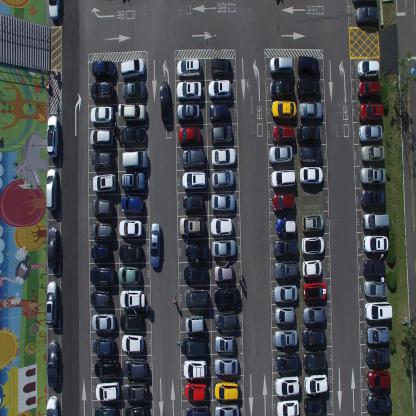car: (120, 57, 146, 82), (45, 281, 59, 327), (364, 300, 393, 322), (46, 114, 60, 158), (270, 167, 296, 190), (272, 258, 299, 280), (47, 339, 59, 388), (45, 166, 58, 211), (275, 375, 300, 398), (92, 172, 117, 195), (94, 380, 120, 402), (121, 126, 147, 148), (122, 380, 148, 402), (181, 147, 205, 170), (150, 222, 162, 268), (209, 123, 233, 146), (301, 327, 326, 349), (182, 170, 207, 192), (366, 370, 391, 392), (122, 82, 147, 104), (272, 238, 298, 259), (210, 147, 236, 168), (122, 150, 148, 171), (366, 392, 392, 413), (360, 187, 386, 208), (360, 165, 386, 186), (298, 165, 324, 186), (269, 79, 295, 100), (90, 59, 116, 80), (213, 287, 240, 307), (119, 290, 146, 310), (274, 327, 298, 349), (211, 191, 235, 213), (122, 170, 146, 192), (122, 103, 146, 125), (91, 83, 115, 105), (302, 350, 326, 372), (91, 150, 115, 172), (120, 194, 144, 216), (46, 226, 58, 270), (297, 54, 319, 78), (298, 100, 322, 122), (296, 77, 320, 99), (276, 352, 301, 373), (303, 375, 328, 396), (118, 219, 143, 240), (207, 78, 232, 99), (302, 280, 327, 301), (183, 264, 208, 285), (122, 358, 148, 378), (358, 102, 384, 122), (179, 216, 205, 236), (362, 211, 389, 230), (214, 309, 237, 331), (178, 124, 201, 146), (273, 283, 297, 304), (90, 105, 114, 126), (268, 56, 292, 77), (296, 123, 320, 144), (269, 144, 293, 165), (159, 80, 171, 122), (302, 305, 326, 326), (211, 238, 236, 258), (91, 312, 116, 332), (90, 265, 115, 285), (182, 358, 207, 378), (214, 381, 239, 401), (184, 288, 209, 308), (93, 358, 118, 378), (363, 234, 388, 254), (184, 242, 209, 262), (362, 279, 388, 298), (176, 80, 202, 99), (210, 216, 233, 237), (90, 128, 113, 149), (119, 242, 142, 263), (120, 334, 144, 354), (357, 80, 381, 100), (271, 192, 295, 212), (177, 58, 201, 78), (301, 235, 325, 255), (364, 326, 389, 345), (358, 123, 383, 142), (271, 100, 296, 119), (364, 348, 390, 366), (301, 258, 322, 280), (183, 336, 206, 356), (91, 198, 114, 218), (117, 265, 140, 285), (211, 169, 235, 188), (214, 357, 238, 376), (119, 313, 143, 332), (362, 258, 386, 277), (361, 144, 385, 163), (355, 6, 379, 25), (299, 146, 323, 165), (176, 102, 200, 121), (304, 396, 328, 415), (274, 216, 296, 236), (182, 193, 204, 213), (357, 58, 379, 78), (272, 124, 294, 144), (90, 222, 113, 241), (274, 306, 295, 326), (211, 57, 232, 77), (209, 102, 230, 122), (92, 336, 115, 354), (184, 382, 207, 400), (301, 214, 324, 232), (90, 288, 111, 307), (214, 335, 236, 353), (276, 400, 300, 416), (184, 314, 204, 332), (91, 244, 111, 262), (214, 264, 234, 281), (213, 403, 240, 415), (47, 0, 60, 23), (125, 403, 149, 415), (94, 403, 117, 415), (45, 394, 58, 415), (186, 404, 209, 415), (351, 0, 376, 7)
